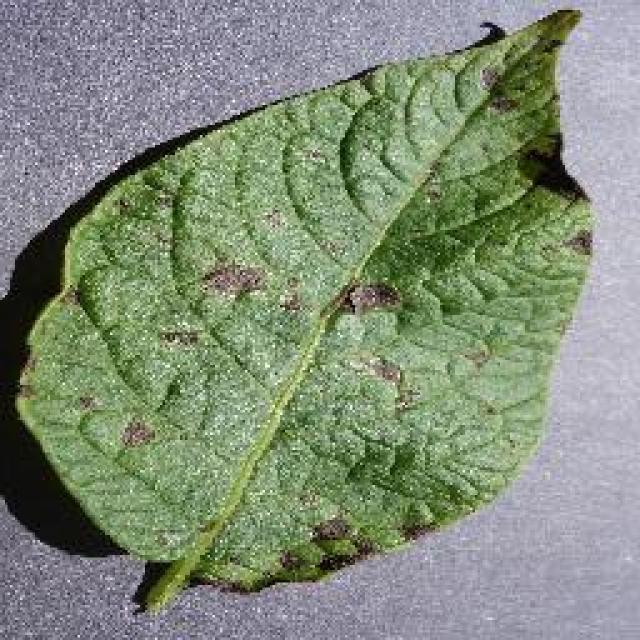Potato: (10, 5, 595, 615)
